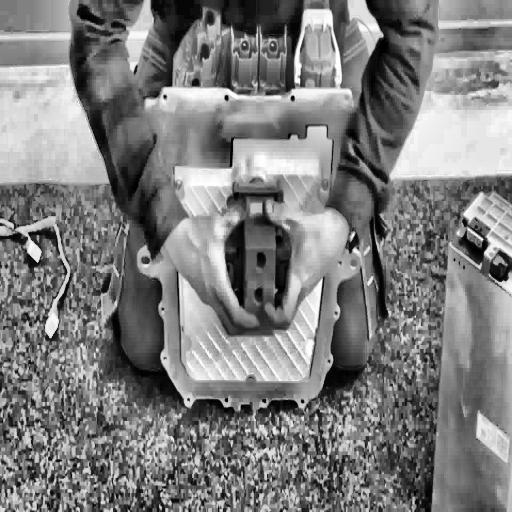bms_unit: (135, 4, 360, 416)
connector: (221, 177, 296, 339)
